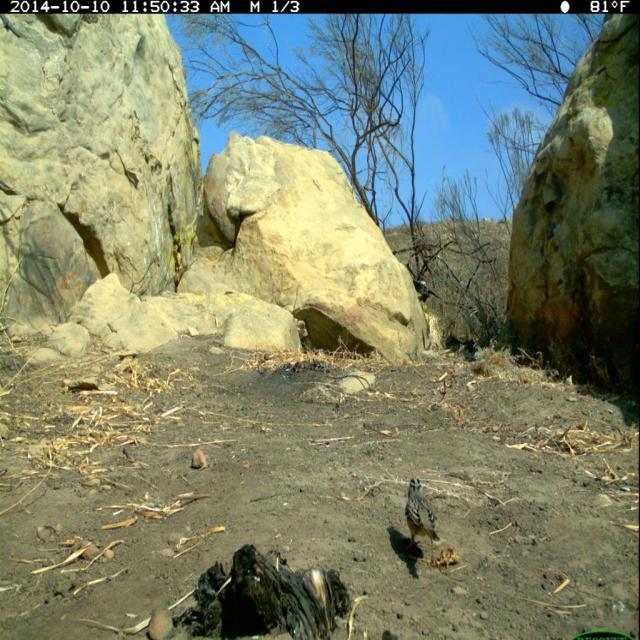bird: (399, 472, 452, 573)
